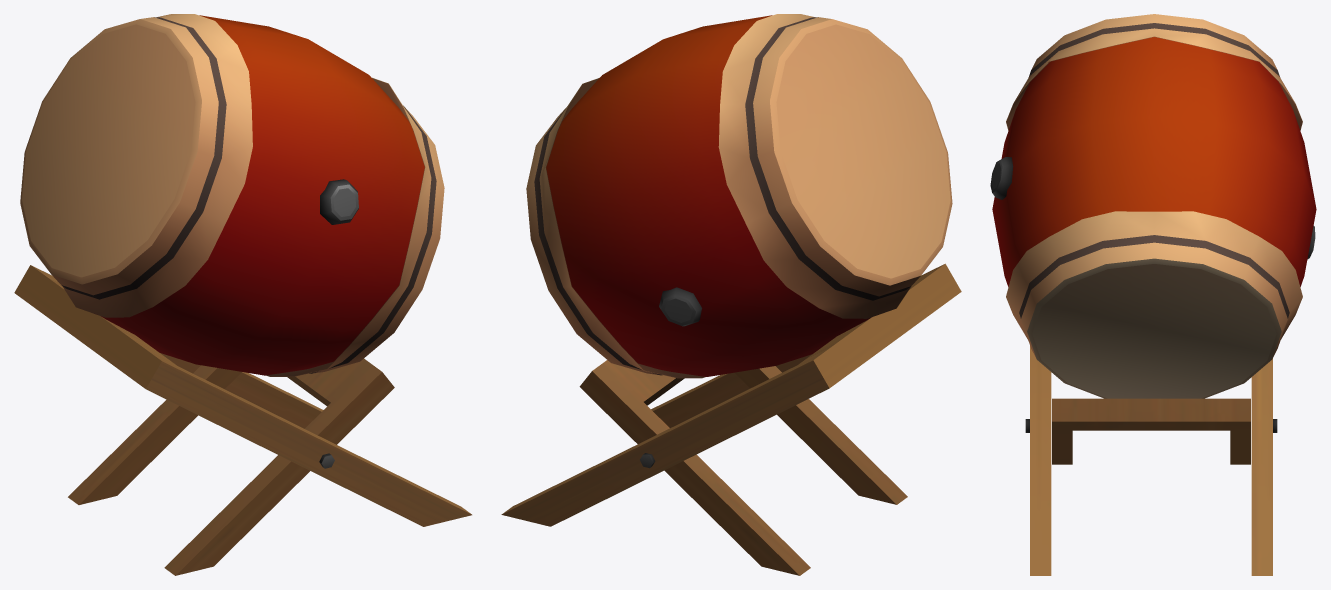
File: SK_Drum.FBX
The picture shows the model from 3 angles, left to right: view 1: azimuth 30°, elevation 25°; view 2: azimuth 150°, elevation 25°; view 3: azimuth 270°, elevation 25°; orthographic projection. The views are drawn at different scales.
Parts seen in each view (by area): view 1: SK_Drum, SK_Drum_wood; view 2: SK_Drum, SK_Drum_wood; view 3: SK_Drum, SK_Drum_wood.
Boxes of the visible parts, x1,y1,x2,y2 form: SK_Drum: [20, 14, 444, 468]; SK_Drum_wood: [14, 265, 471, 575]; SK_Drum: [526, 14, 952, 468]; SK_Drum_wood: [501, 263, 961, 575]; SK_Drum: [990, 14, 1316, 432]; SK_Drum_wood: [1030, 346, 1272, 575].
Size of the model in its own units: 91.21 by 119 by 77.05.
